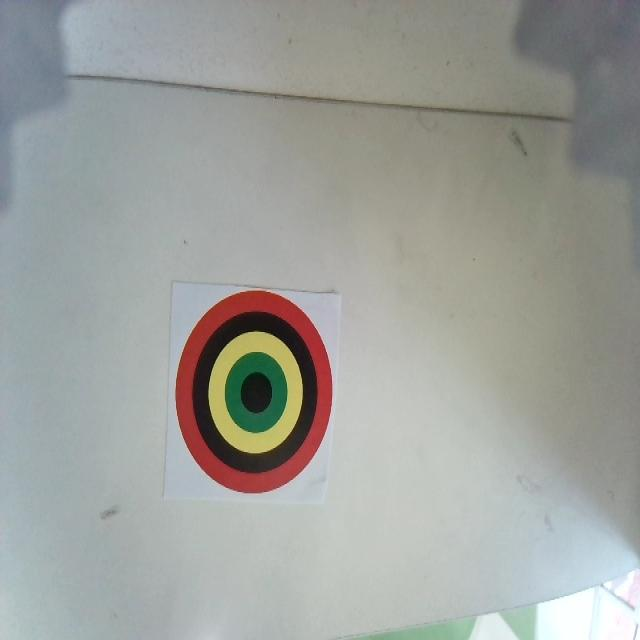cogn: (176, 289, 333, 492)
